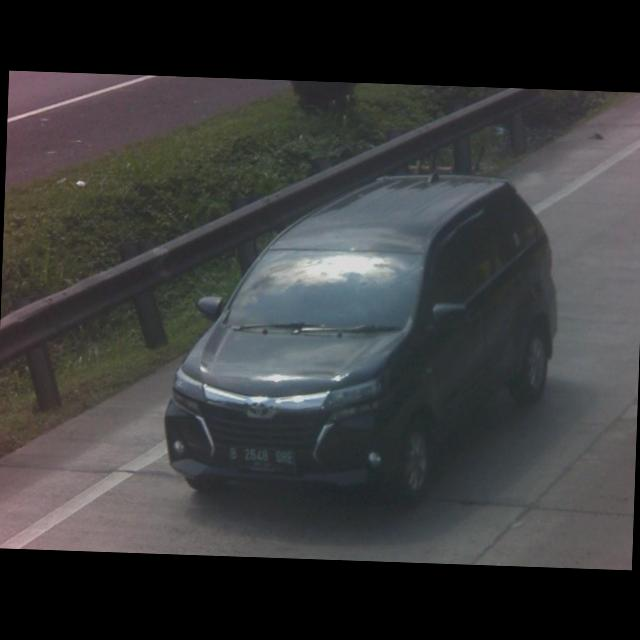plate: (226, 444, 298, 474)
